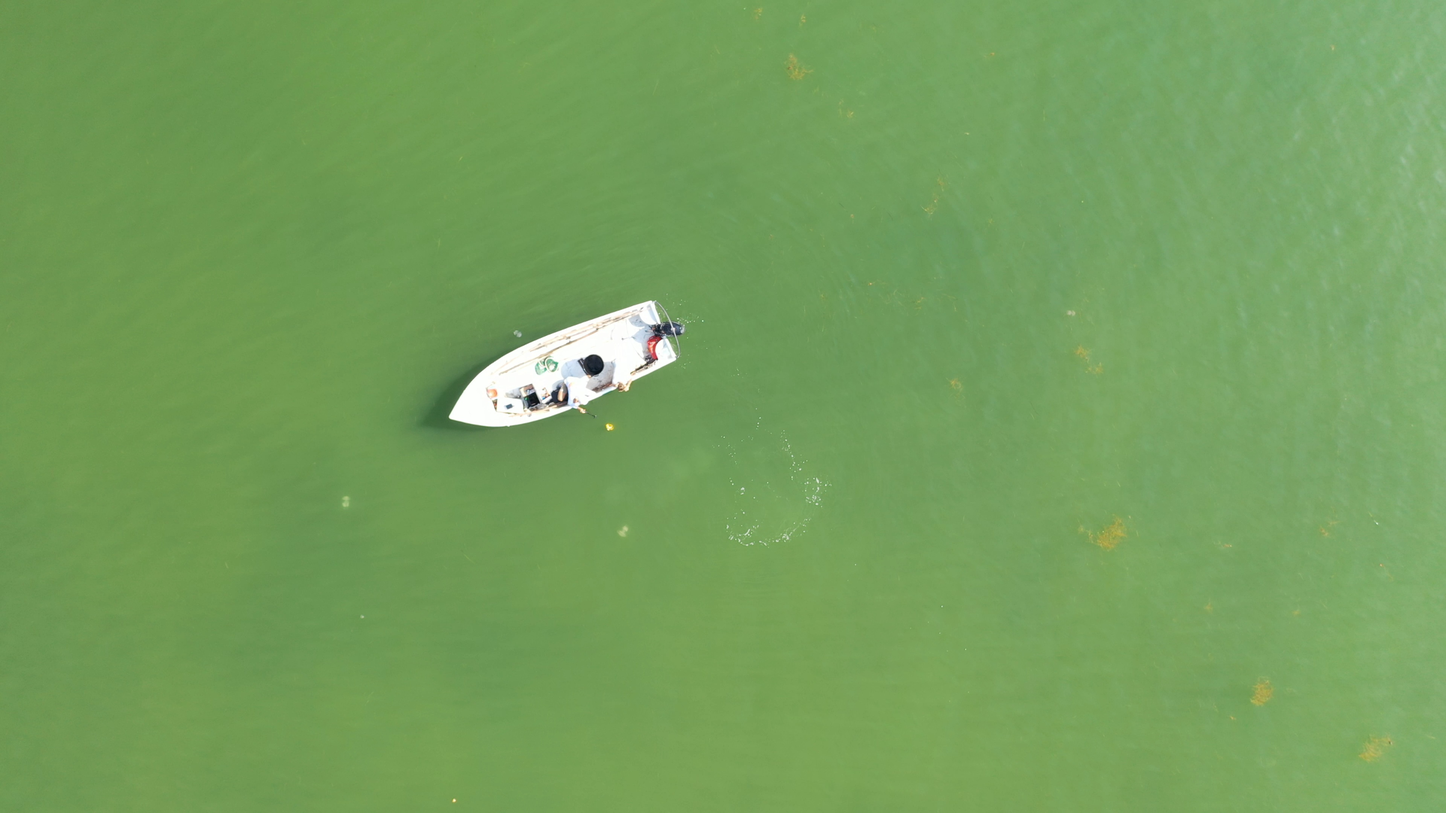meduse: (618, 525, 630, 536), (340, 497, 351, 508), (513, 329, 522, 338), (1068, 308, 1076, 318), (361, 613, 366, 620)
